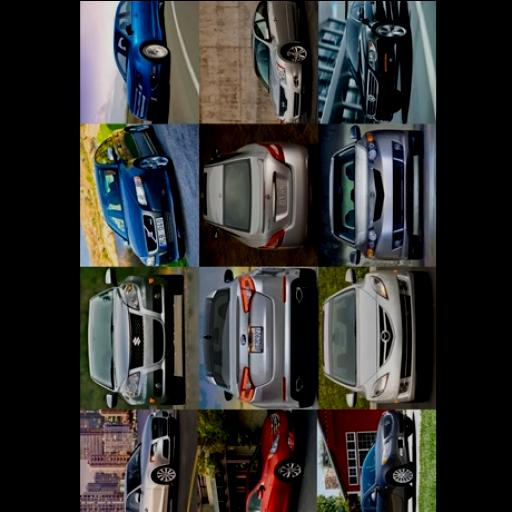sedan: (200, 269, 315, 407), (323, 269, 428, 407), (87, 269, 183, 407), (329, 127, 422, 265), (93, 126, 183, 265), (201, 141, 311, 250), (344, 0, 407, 120), (111, 0, 169, 122), (250, 0, 307, 122), (246, 412, 301, 512), (361, 412, 414, 512), (124, 411, 176, 512)
